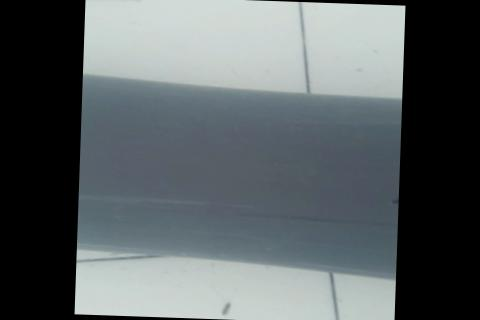keretakan: (389, 194, 398, 205)
